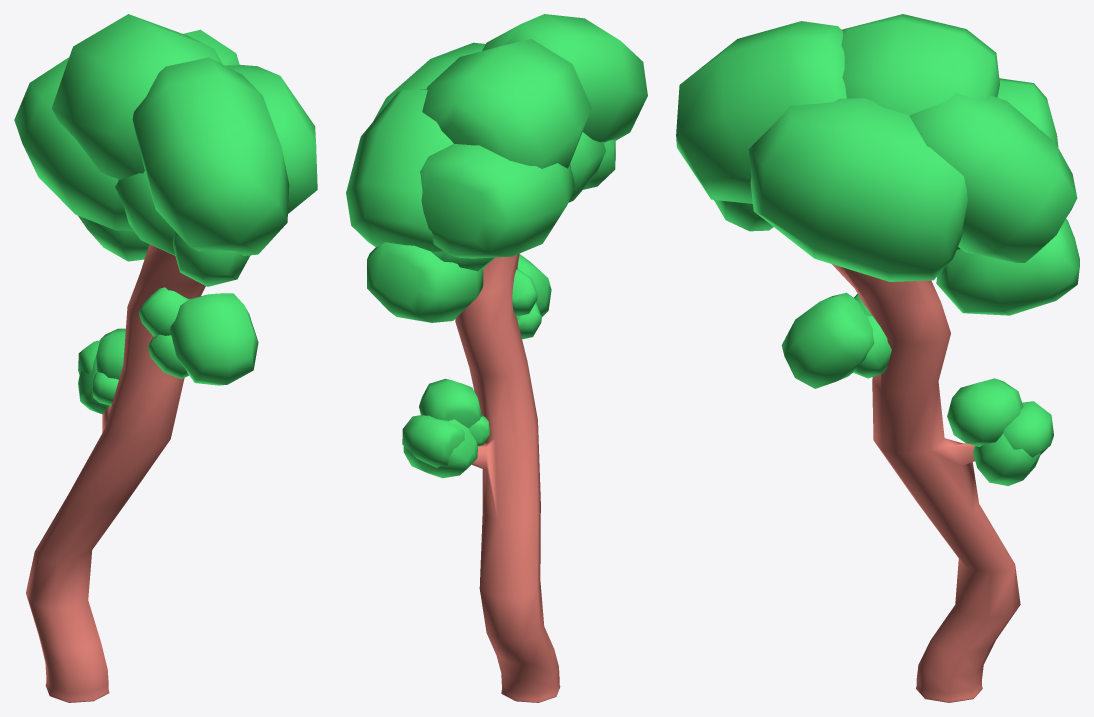
Rendered from Tree4Visitor.fbx.
The picture shows the model from 3 angles, left to right: view 1: azimuth 30°, elevation 25°; view 2: azimuth 150°, elevation 25°; view 3: azimuth 270°, elevation 25°; orthographic projection. The views are drawn at different scales.
Visible parts, largest first — view 1: SmoothTree4; view 2: SmoothTree4; view 3: SmoothTree4.
Part boxes in pixels (left/top/right/bottom): SmoothTree4: left=14, top=14, right=317, bottom=702; SmoothTree4: left=346, top=14, right=647, bottom=702; SmoothTree4: left=676, top=14, right=1079, bottom=702.
Bounding box in the file's own units: 578 × 1663 × 875.
